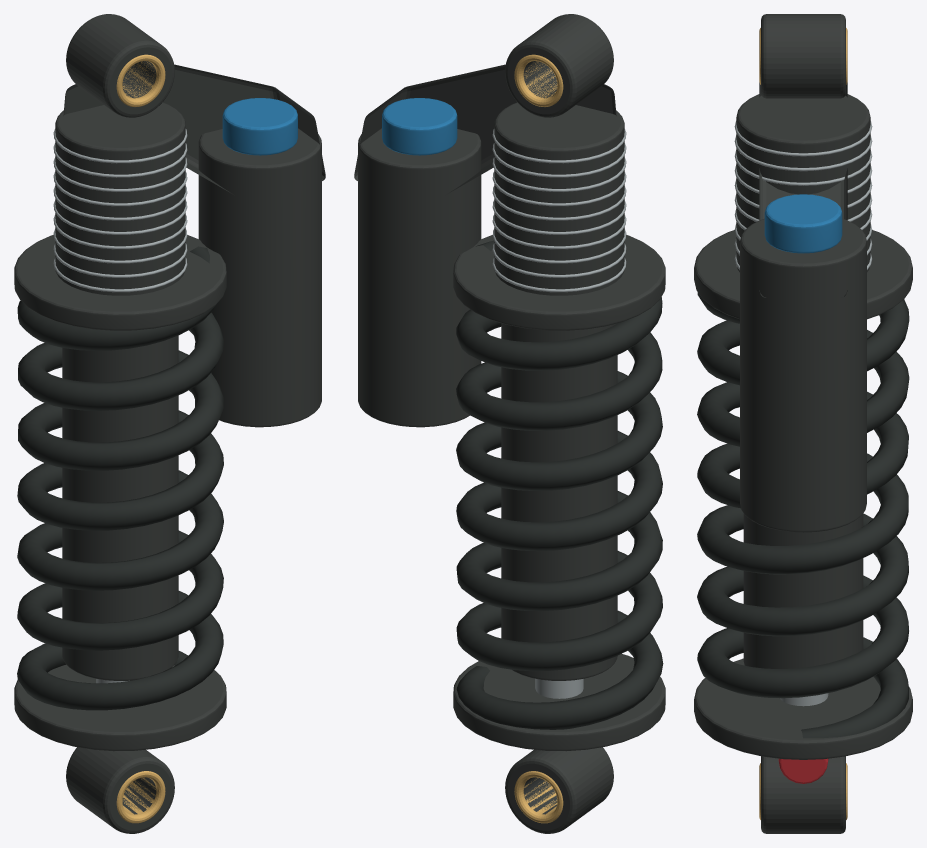
The model's file is marzocchi-bomber-cr--56617470.glb.
3 views of the same model, side by side, from view 1: azimuth 30°, elevation 25°; view 2: azimuth 150°, elevation 25°; view 3: azimuth 270°, elevation 25° (orthographic). The views are drawn at different scales.
Parts seen in each view (by area): view 1: marzocchi-bomber-cr--56617470__link, marzocchi-bomber-cr--56617470__coil, marzocchi-bomber-cr--56617470__bolts, marzocchi-bomber-cr--56617470__adjuster, marzocchi-bomber-cr--56617470__stanchions; view 2: marzocchi-bomber-cr--56617470__link, marzocchi-bomber-cr--56617470__coil, marzocchi-bomber-cr--56617470__bolts, marzocchi-bomber-cr--56617470__adjuster, marzocchi-bomber-cr--56617470__stanchions; view 3: marzocchi-bomber-cr--56617470__link, marzocchi-bomber-cr--56617470__coil, marzocchi-bomber-cr--56617470__adjuster, marzocchi-bomber-cr--56617470__bolts, marzocchi-bomber-cr--56617470__rebound, marzocchi-bomber-cr--56617470__stanchions.
Part boxes in pixels (x1=…): marzocchi-bomber-cr--56617470__link: x1=14, y1=14, x2=325, y2=833; marzocchi-bomber-cr--56617470__coil: x1=17, y1=246, x2=224, y2=710; marzocchi-bomber-cr--56617470__bolts: x1=53, y1=129, x2=187, y2=683; marzocchi-bomber-cr--56617470__adjuster: x1=222, y1=98, x2=297, y2=155; marzocchi-bomber-cr--56617470__stanchions: x1=116, y1=54, x2=165, y2=823; marzocchi-bomber-cr--56617470__link: x1=354, y1=14, x2=665, y2=833; marzocchi-bomber-cr--56617470__coil: x1=456, y1=240, x2=663, y2=729; marzocchi-bomber-cr--56617470__bolts: x1=492, y1=129, x2=626, y2=698; marzocchi-bomber-cr--56617470__adjuster: x1=382, y1=98, x2=457, y2=155; marzocchi-bomber-cr--56617470__stanchions: x1=514, y1=54, x2=563, y2=823; marzocchi-bomber-cr--56617470__link: x1=694, y1=14, x2=912, y2=833; marzocchi-bomber-cr--56617470__coil: x1=697, y1=292, x2=909, y2=738; marzocchi-bomber-cr--56617470__adjuster: x1=764, y1=194, x2=842, y2=253; marzocchi-bomber-cr--56617470__bolts: x1=734, y1=121, x2=872, y2=706; marzocchi-bomber-cr--56617470__rebound: x1=778, y1=758, x2=828, y2=783; marzocchi-bomber-cr--56617470__stanchions: x1=759, y1=28, x2=847, y2=819.
Size of the model in its own units: 0.096 by 0.254 by 0.062.
